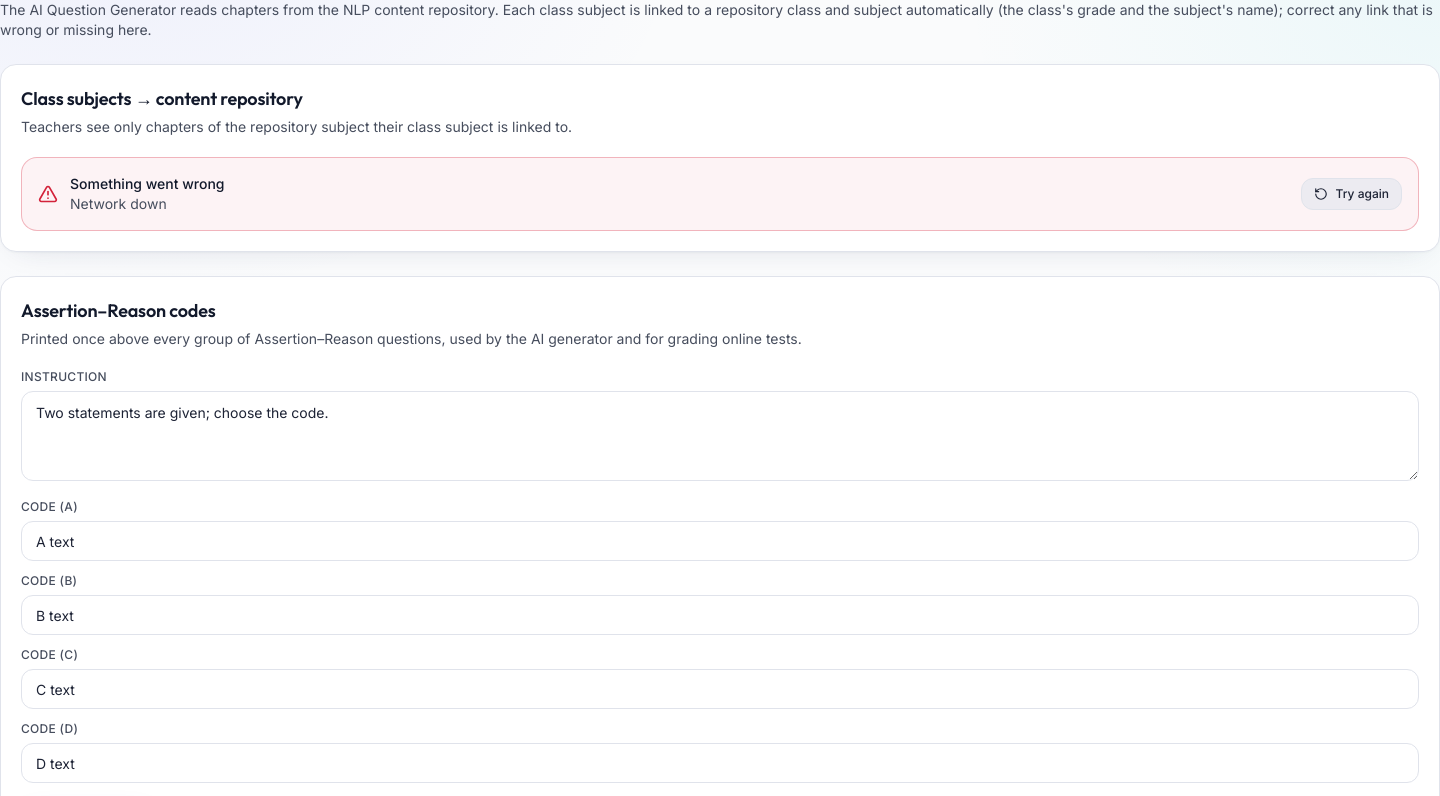
it: Question generator admin panel › shows an error with a retry when loading fails
This screenshot has width=1440, height=796.
Check: the text "Network down" is shown, box [70,195,167,212]
Click the button "Try again": (1351, 194) [1301,178,1402,210]
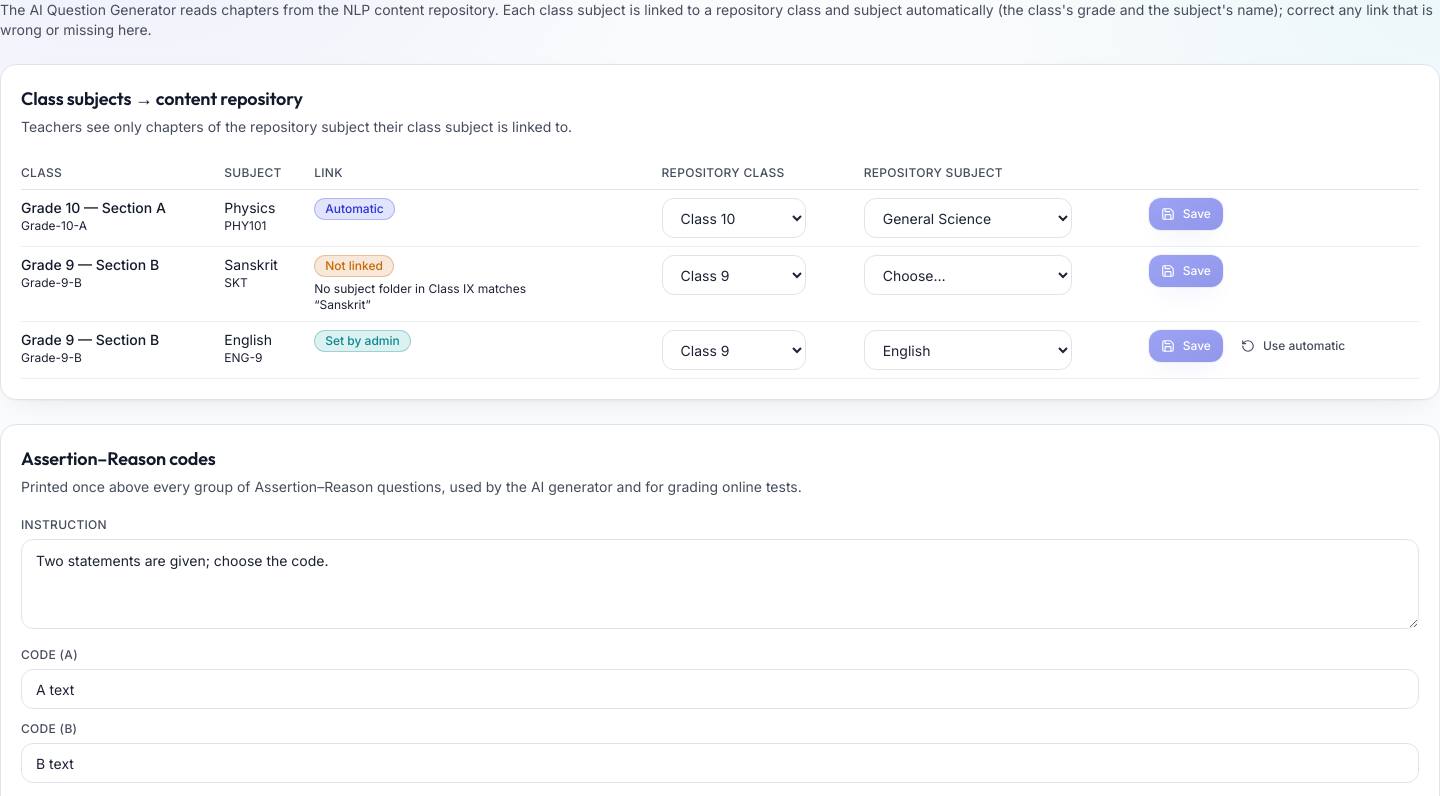
Check: the text "PHY101" is shown, box [224,218,266,233]
